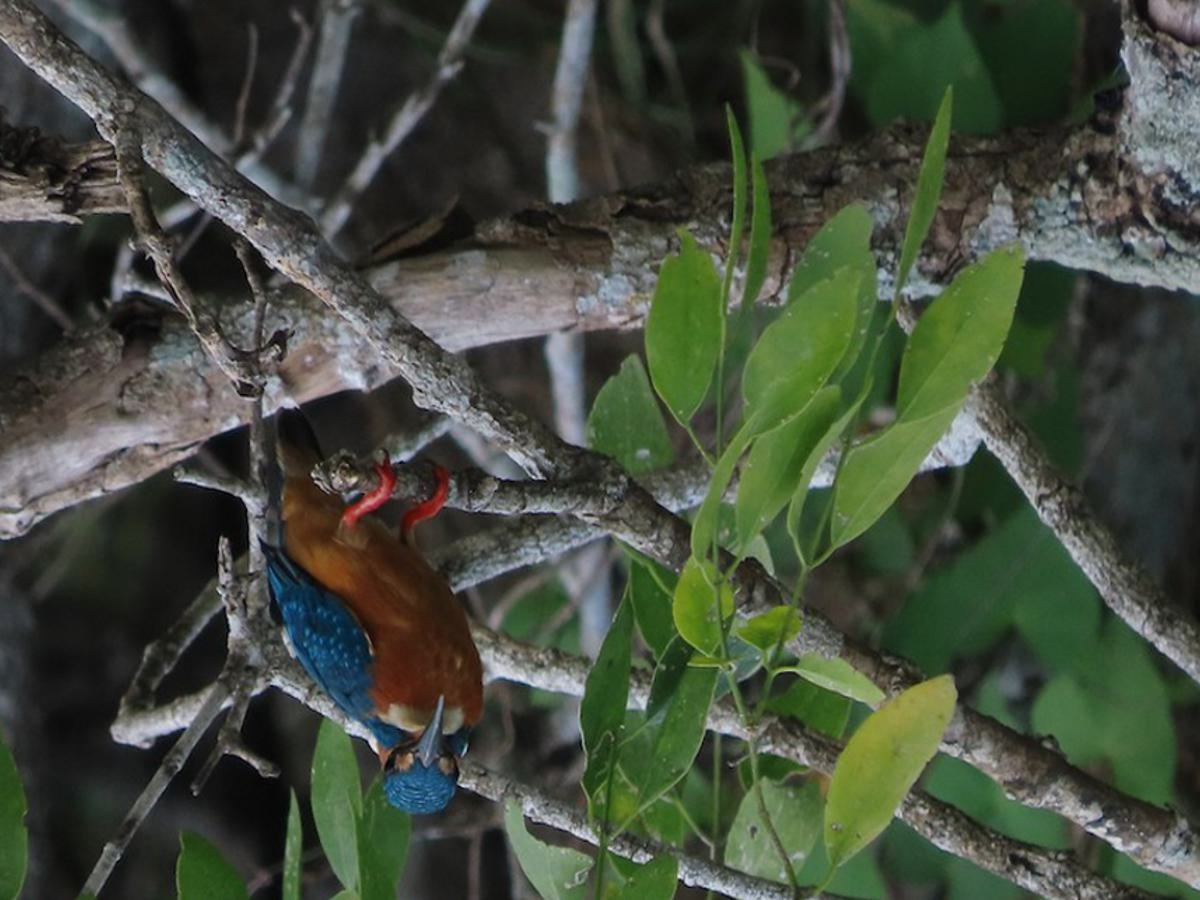kingfisher: (235, 384, 521, 815)
